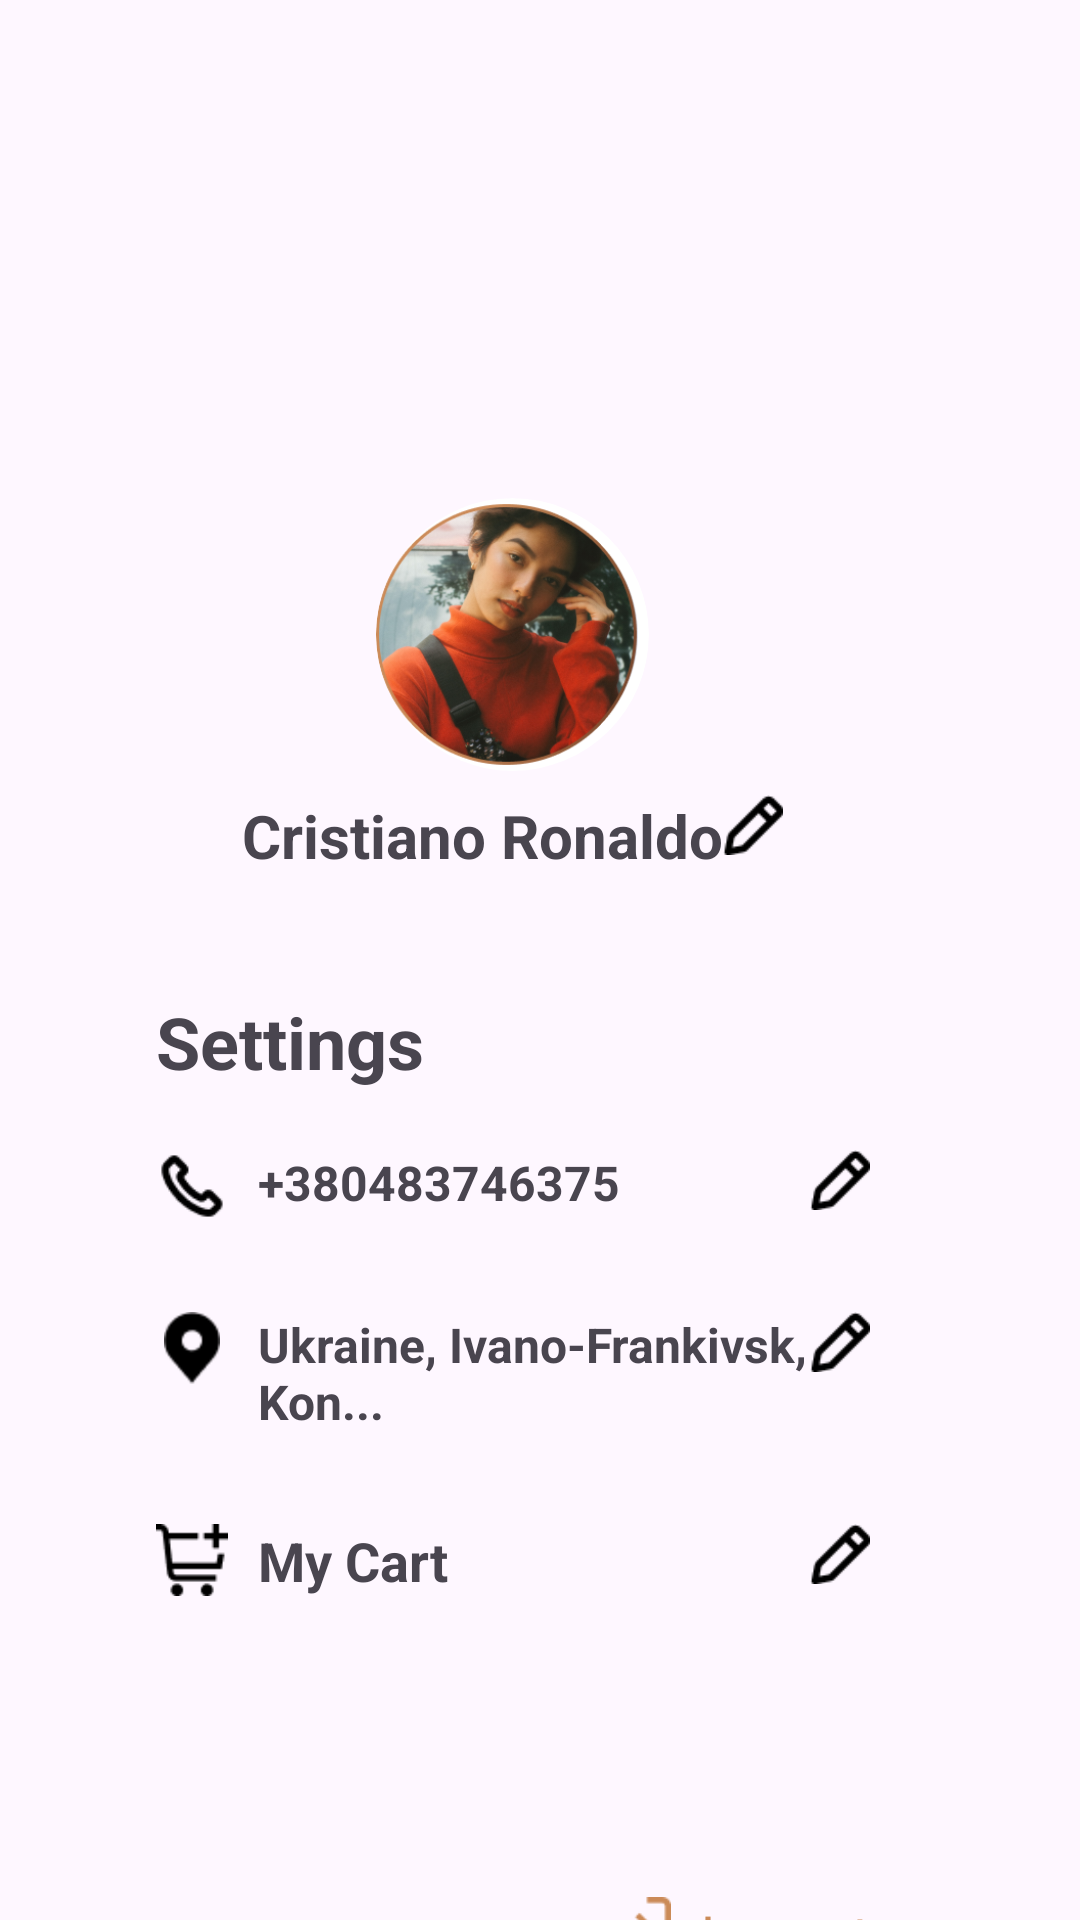

Icon bounding boxes for this 1080 x 1920 phone screenshot, format {"left": x1, "top": y1, "right": x2, "bottom": y2}:
Edit Address: {"left": 811, "top": 1312, "right": 870, "bottom": 1372}
Edit Cart: {"left": 811, "top": 1524, "right": 870, "bottom": 1584}
Edit Name: {"left": 724, "top": 795, "right": 783, "bottom": 855}
Edit Phone: {"left": 811, "top": 1150, "right": 870, "bottom": 1210}
Location: {"left": 164, "top": 1312, "right": 220, "bottom": 1384}
Phone: {"left": 161, "top": 1155, "right": 223, "bottom": 1217}
Profile Picture: {"left": 376, "top": 504, "right": 638, "bottom": 765}
